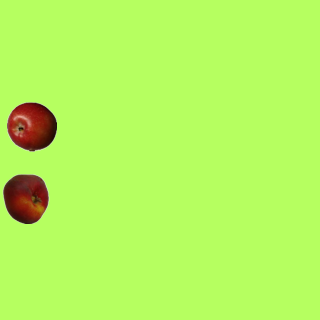Apple Braeburn: (6, 101, 56, 151)
Nectarine Flat: (0, 173, 50, 223)
